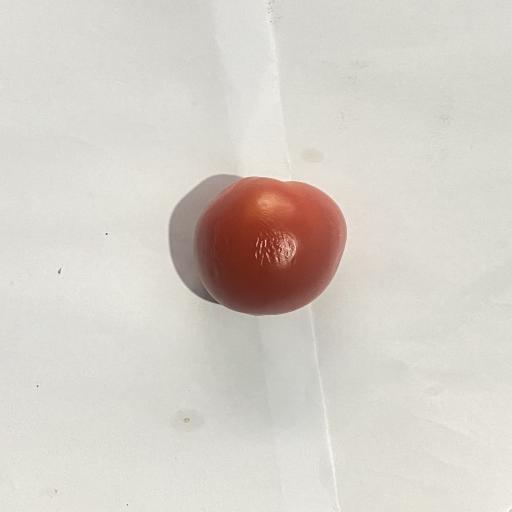overipe: (194, 177, 347, 315)
